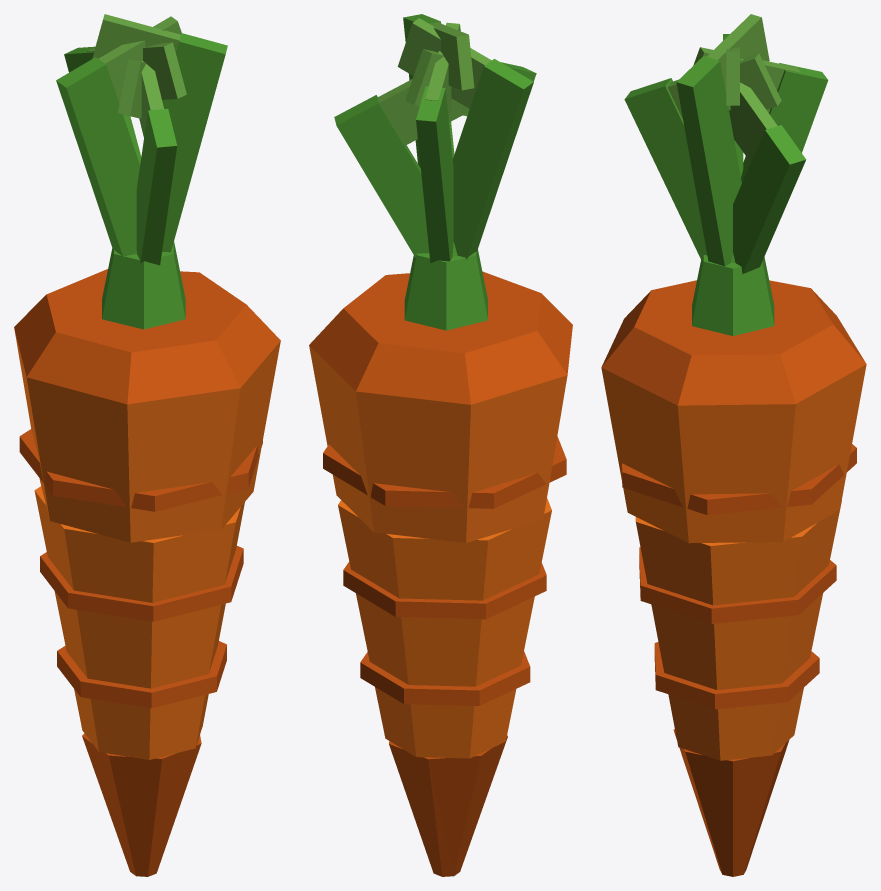
Rendered from zanahoria.obj.
The picture shows the model from 3 angles, left to right: view 1: azimuth 30°, elevation 25°; view 2: azimuth 150°, elevation 25°; view 3: azimuth 270°, elevation 25°; orthographic projection.
Parts seen in each view (by area): view 1: zanahoria; view 2: zanahoria; view 3: zanahoria.
Boxes of the visible parts, <box> form: zanahoria: <box>14,14,280,876</box>; zanahoria: <box>309,14,572,876</box>; zanahoria: <box>601,14,866,876</box>.
Size of the model in its own units: 0.3826 by 1.37 by 0.3898.
